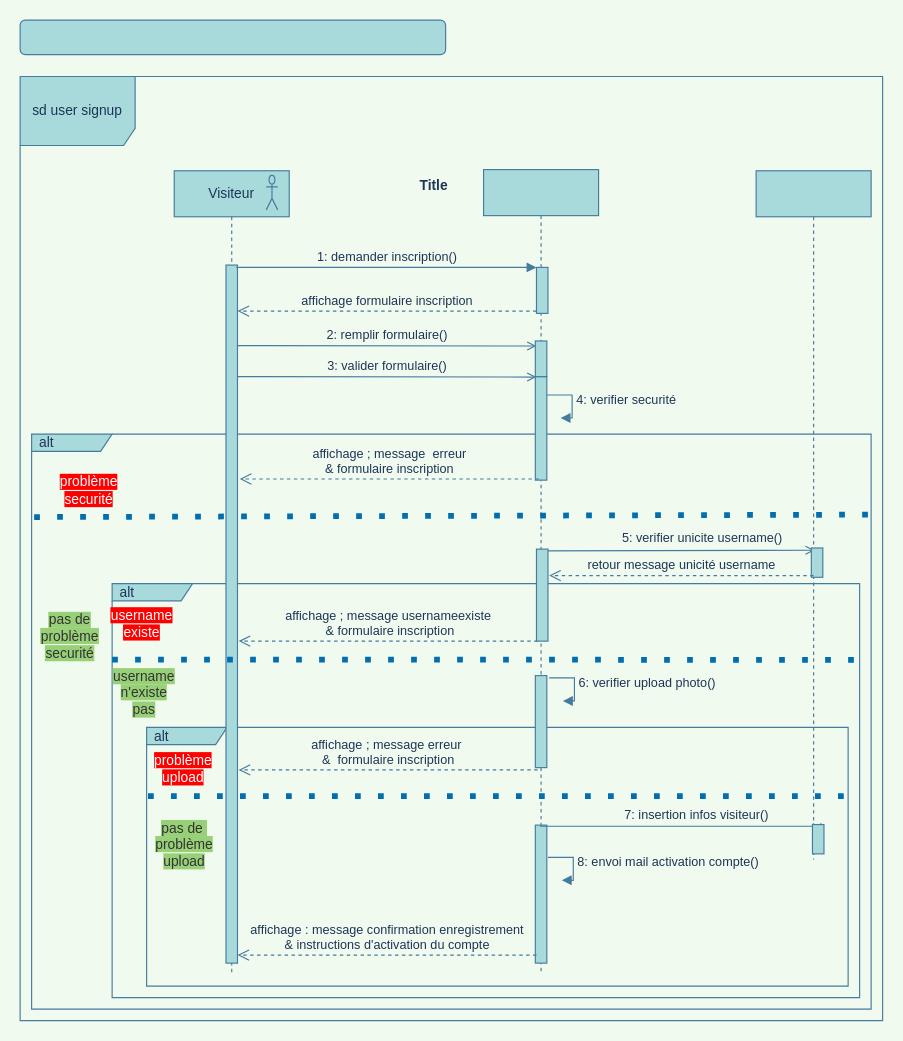
Image size: 903x1041. Some labels were removed from this diagram. Each missing label, with the centre of its shape:
"DataBase" belongs at pixel 813 515.
"DIAGRAM DE SEQUENCE INSCRIPTION VISITEUR" belongs at pixel 232 37.
"Systeme" belongs at pixel 540 571.
